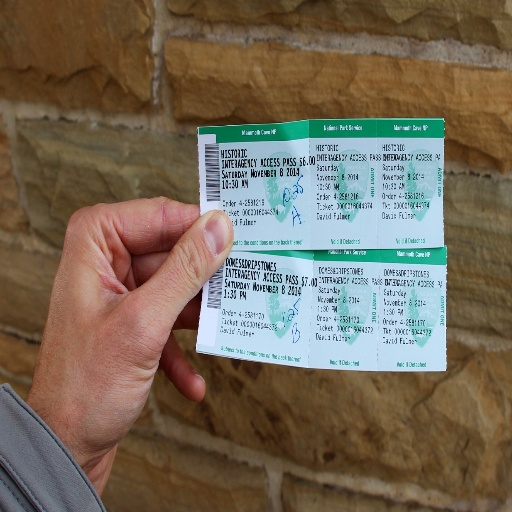hand: (14, 192, 235, 463)
